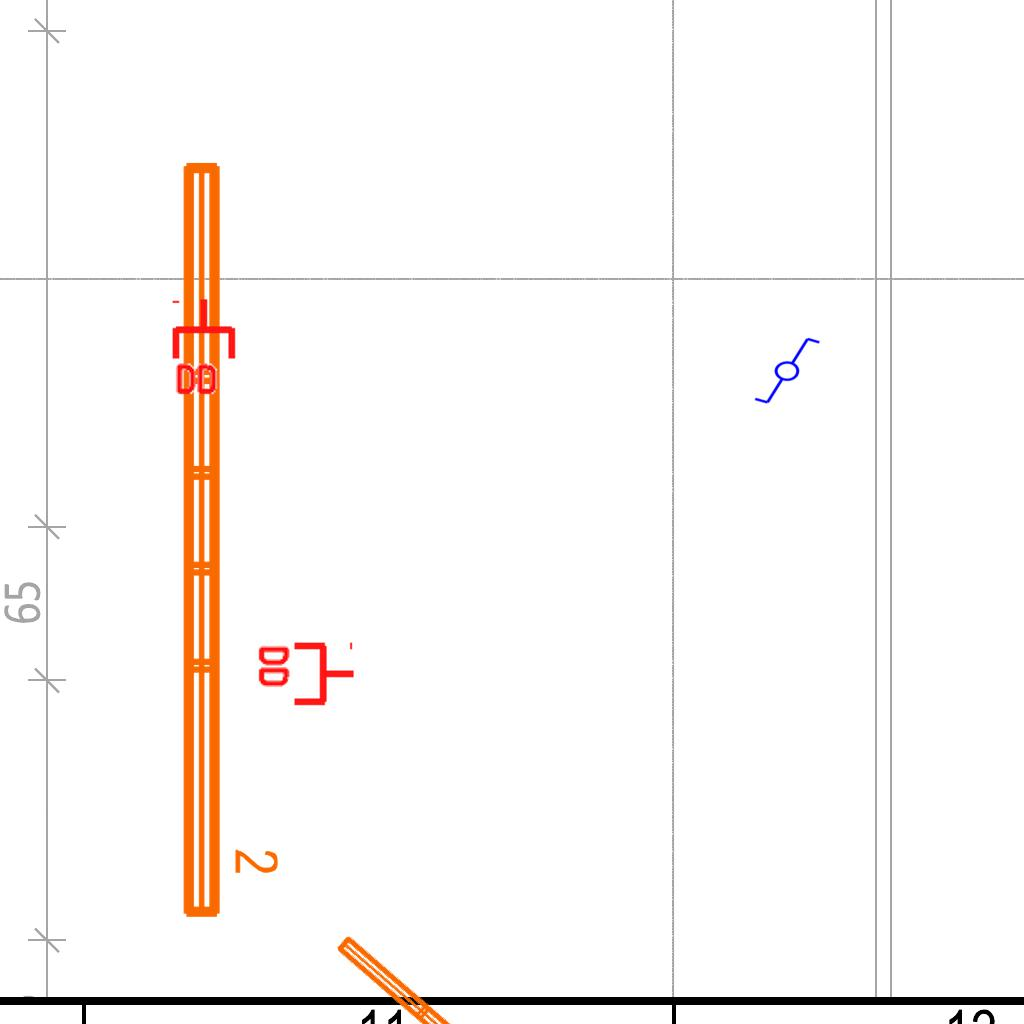Ambulanz_Pendelleuchte_LED: (171, 152, 283, 926), (328, 907, 657, 1024)
Datenanschluss_zweifach: (254, 641, 357, 710), (171, 296, 240, 399)
Wechselschalter: (744, 334, 822, 406)
